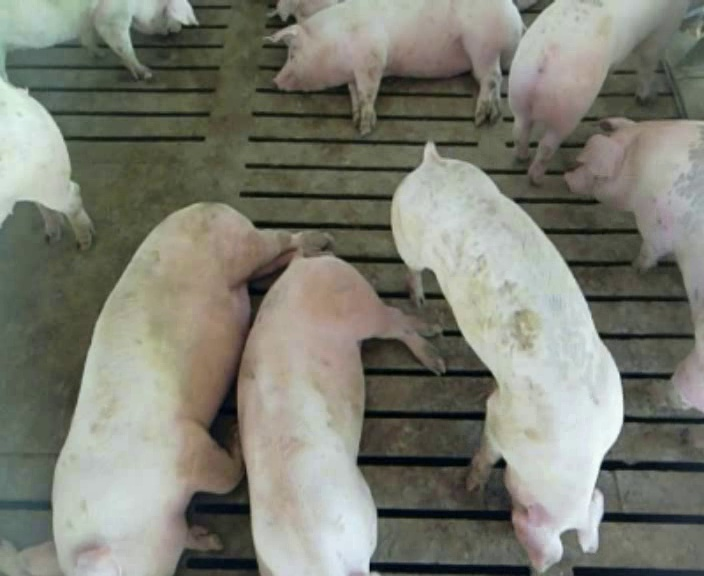pig: (16, 203, 336, 575), (392, 142, 622, 572), (238, 256, 444, 573), (565, 118, 703, 411), (269, 2, 523, 134), (509, 2, 686, 183), (0, 1, 197, 78)
